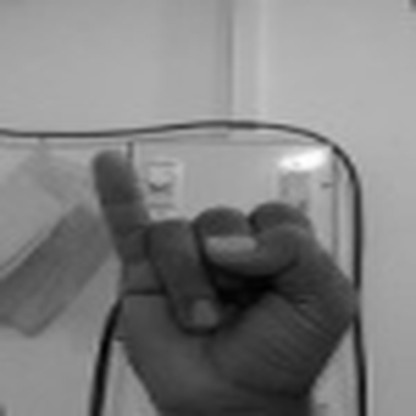i: (81, 139, 363, 410)
